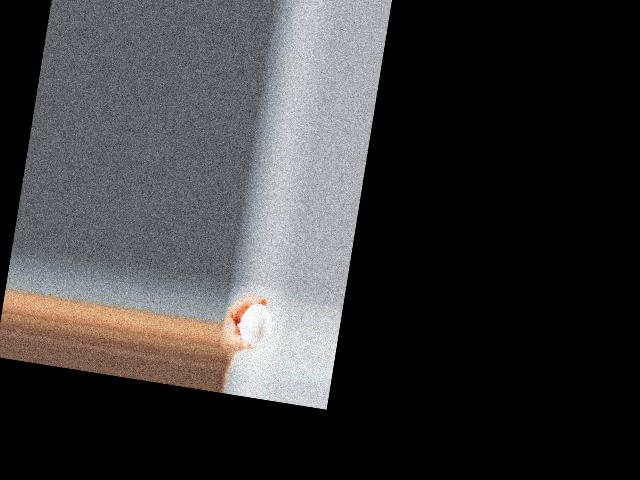egg: (238, 300, 274, 347)
